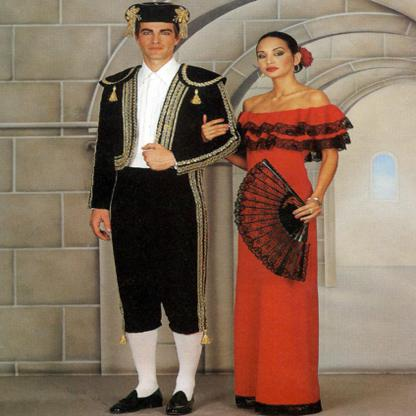face: (137, 13, 177, 62), (257, 39, 294, 78)
